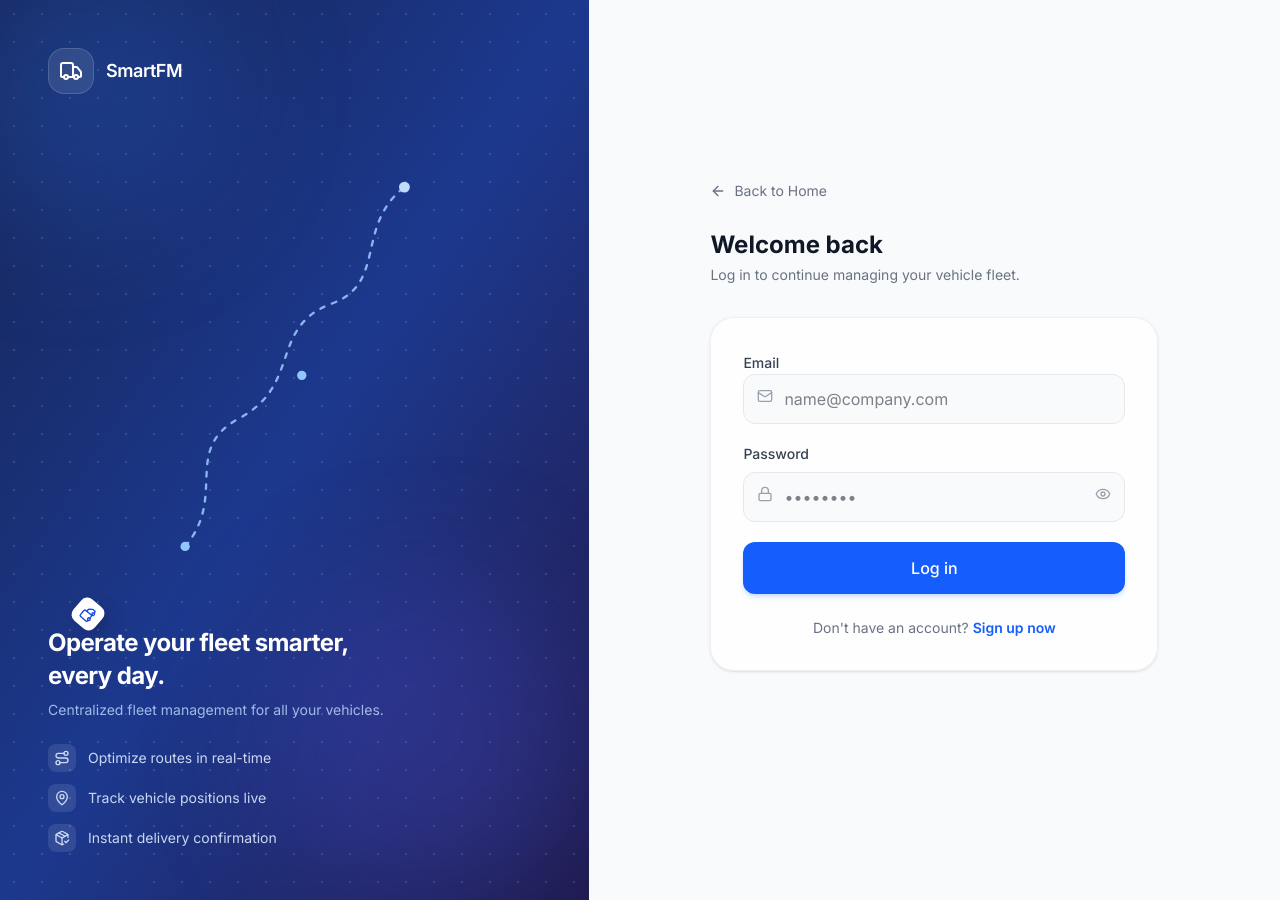
Scenario: Login Component › shows server error message when login fails
This screenshot has width=1280, height=900.
In the field with placeholder "name@company.com": (934, 399) [743, 374, 1125, 424], type "test@smartfm.vn"
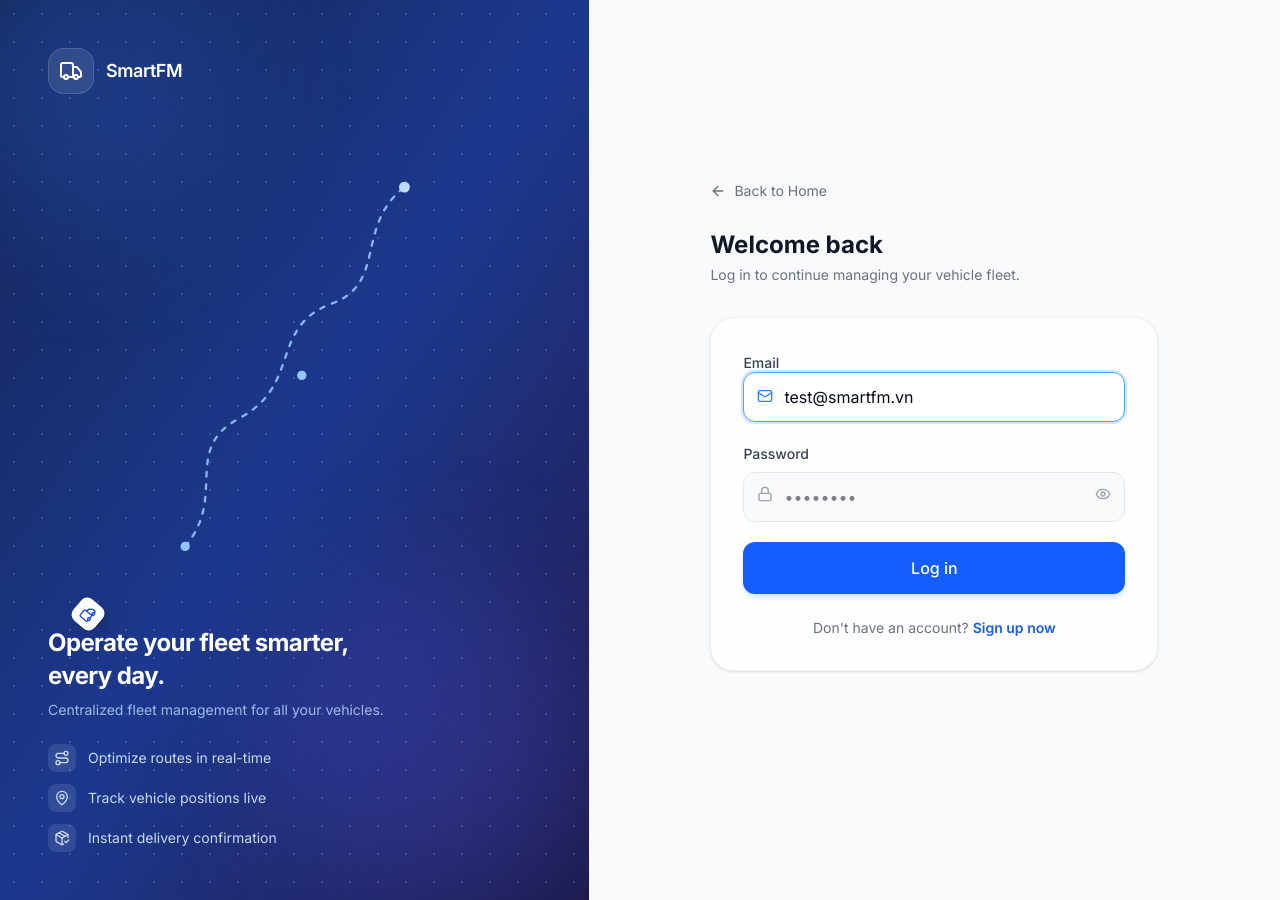
In the password field with placeholder "••••••••": (934, 497) [743, 472, 1125, 522], type "WrongPass"
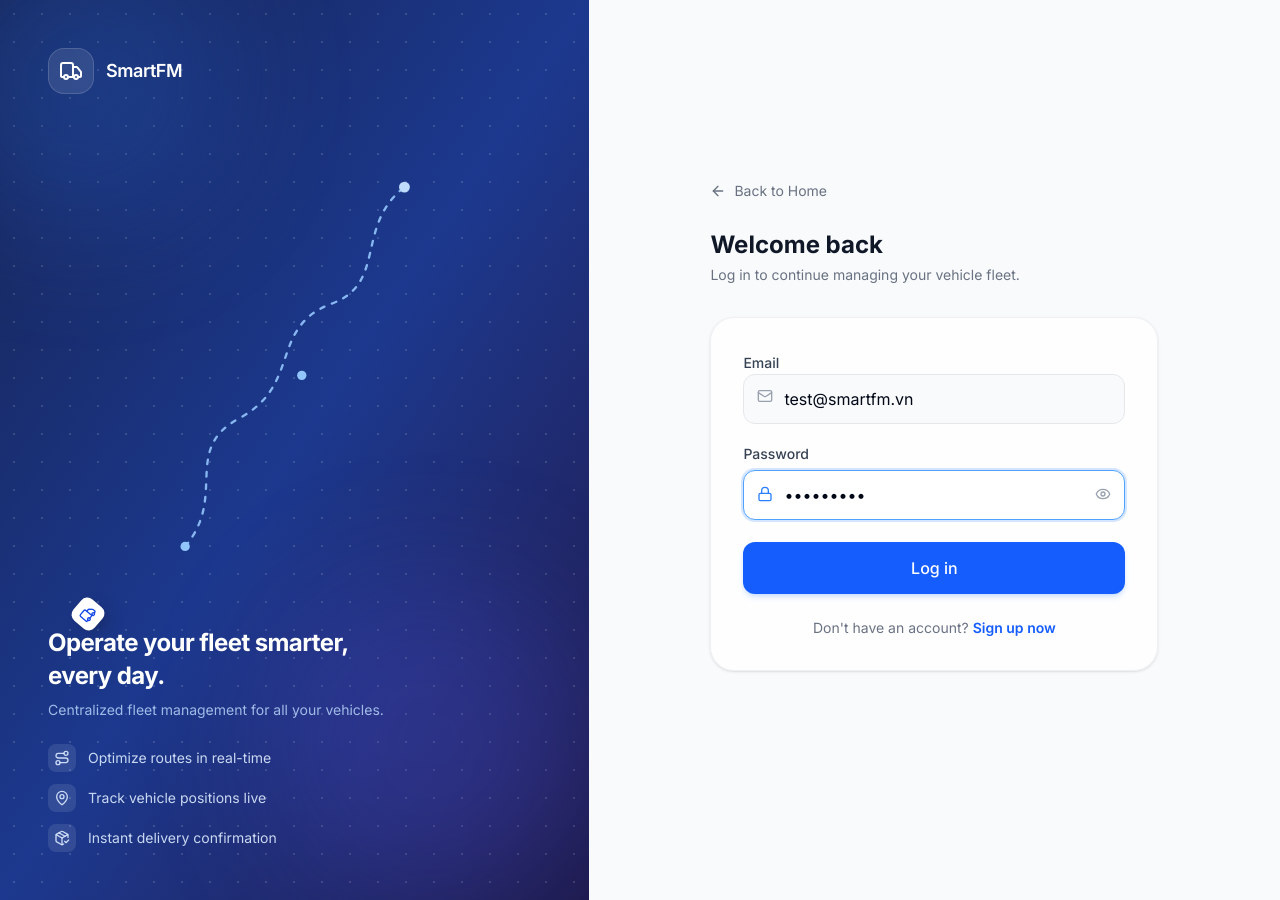
Click the button "Log in": (934, 568) [743, 542, 1125, 594]
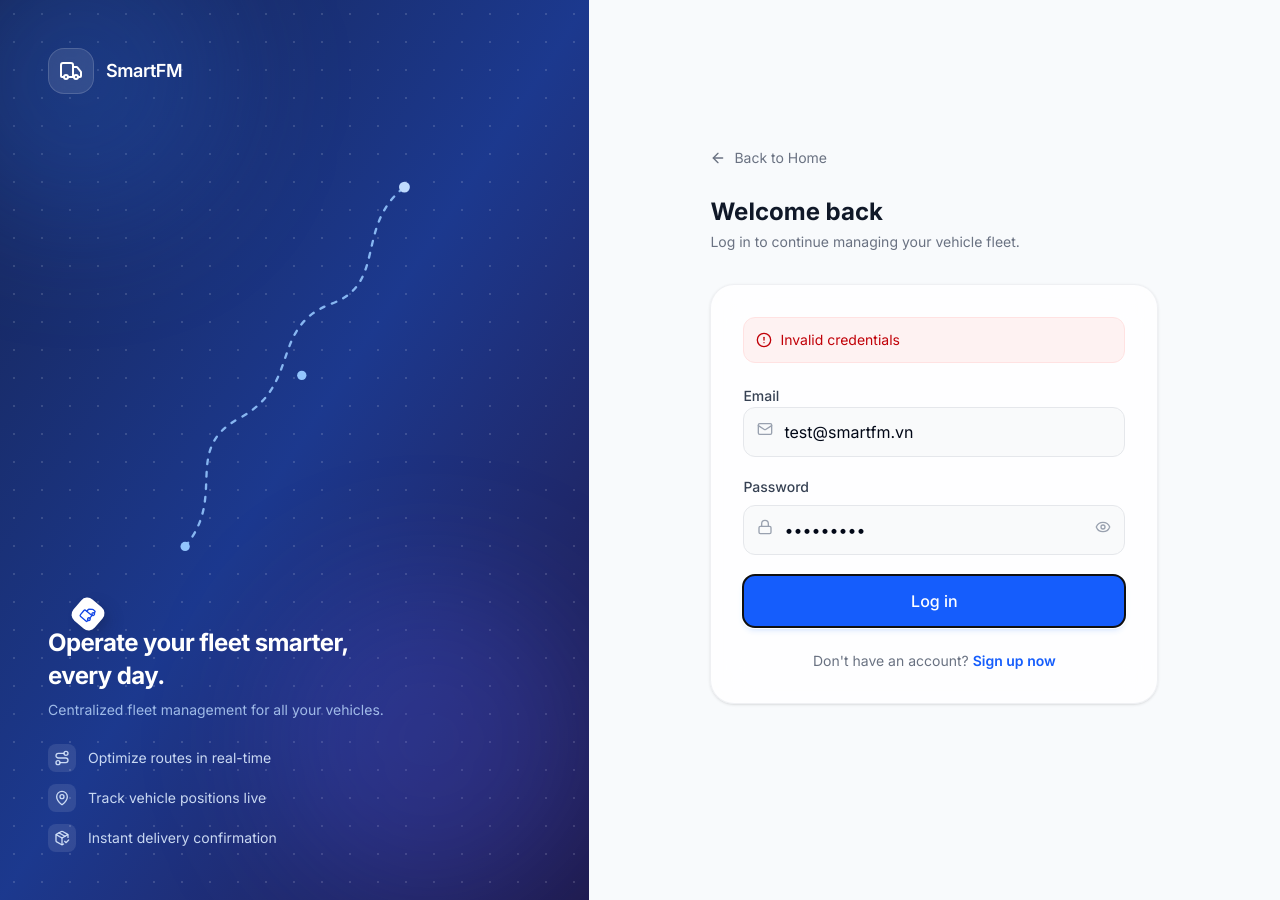
expect the text "Invalid credentials" is shown: met, box [743, 317, 1125, 363]
